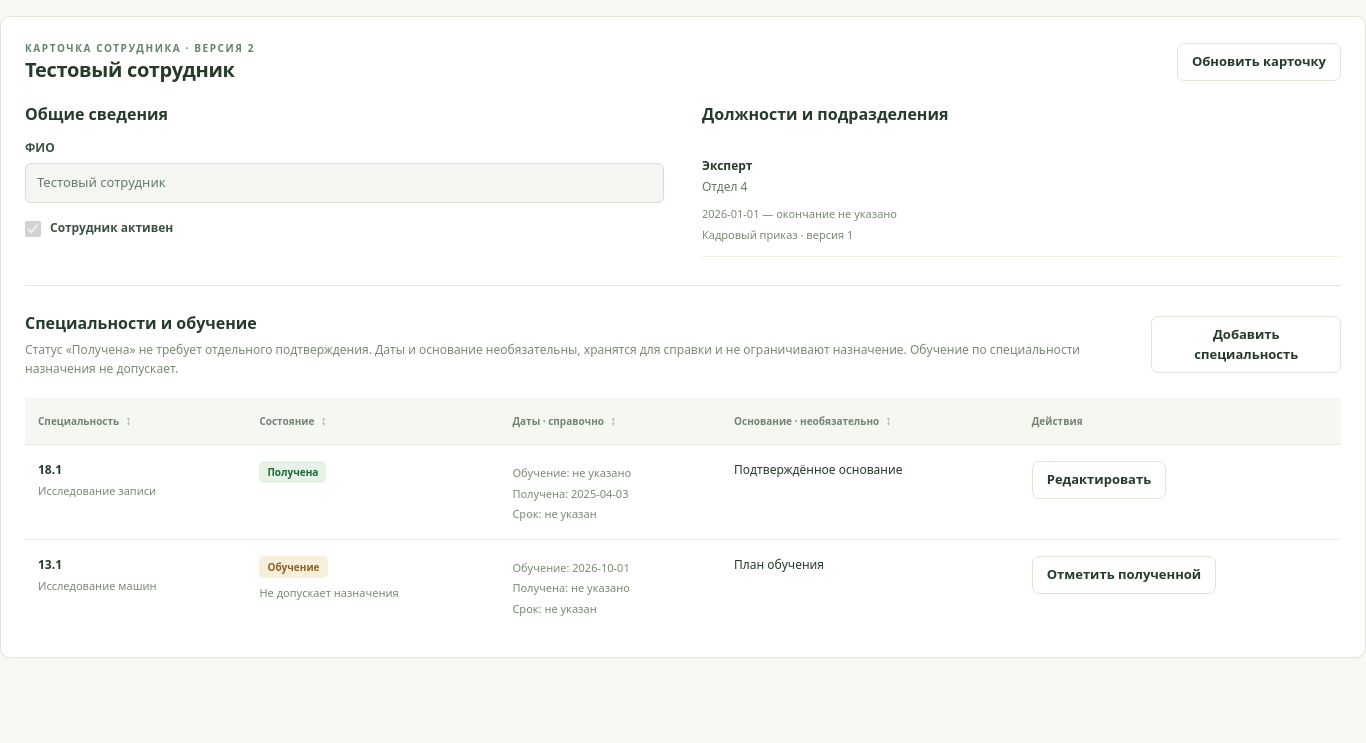
Test: specialty reference dates › adds an obtained specialty directly with all optional details empty using only the obtained-specialty right
The width and height of the screenshot is (1366, 743).
Click the button "Добавить специальность" at [1246, 345], box [1152, 316, 1341, 373]
(page scrolled)
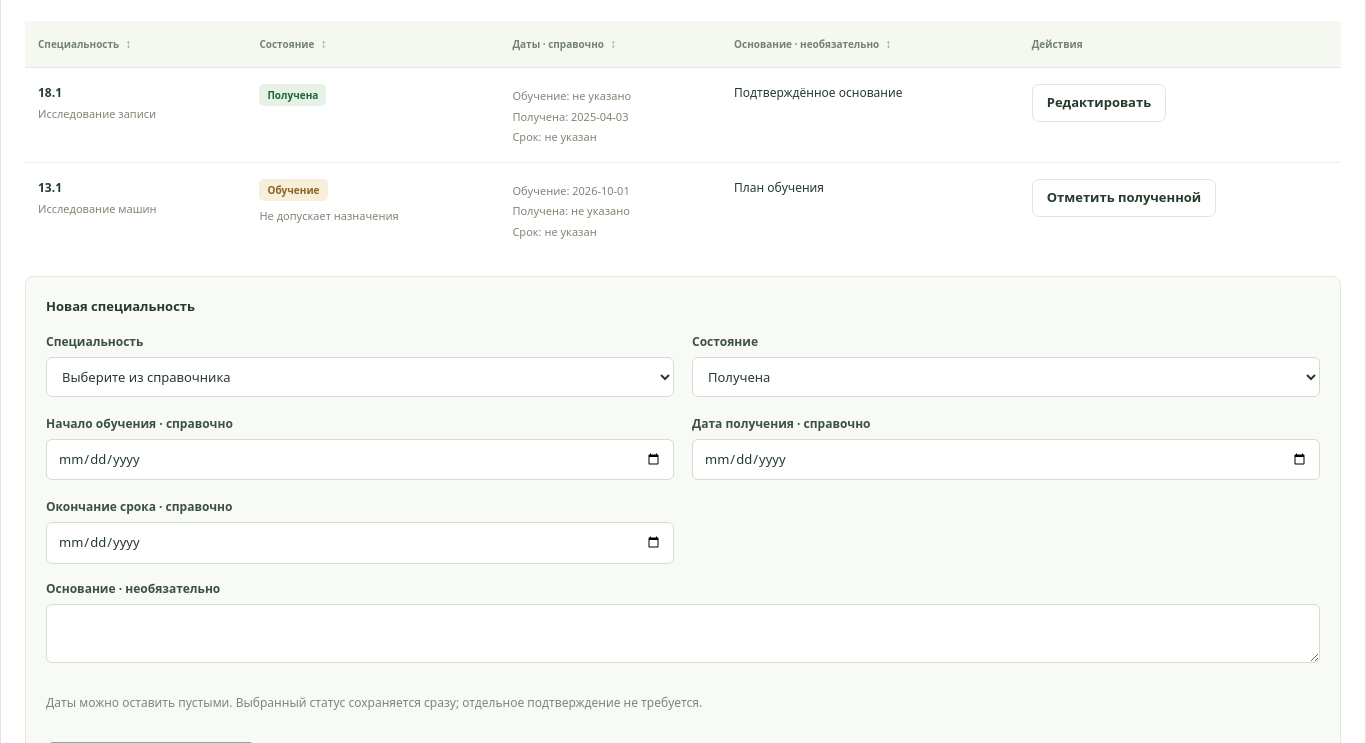
Select "18.1 · Исследование записи" in the dropdown named "specialty_id" at [360, 377], box [46, 357, 674, 397]
(page scrolled)
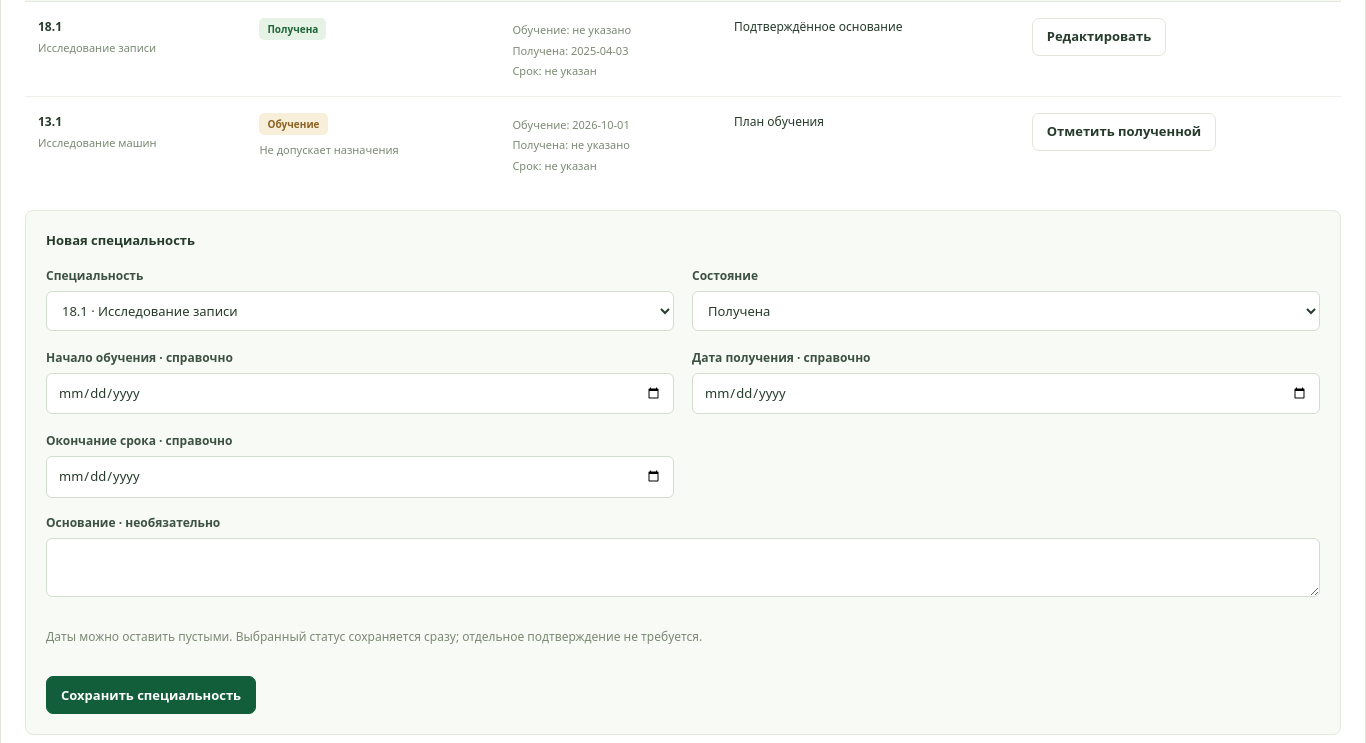
Submit the form
(page scrolled)
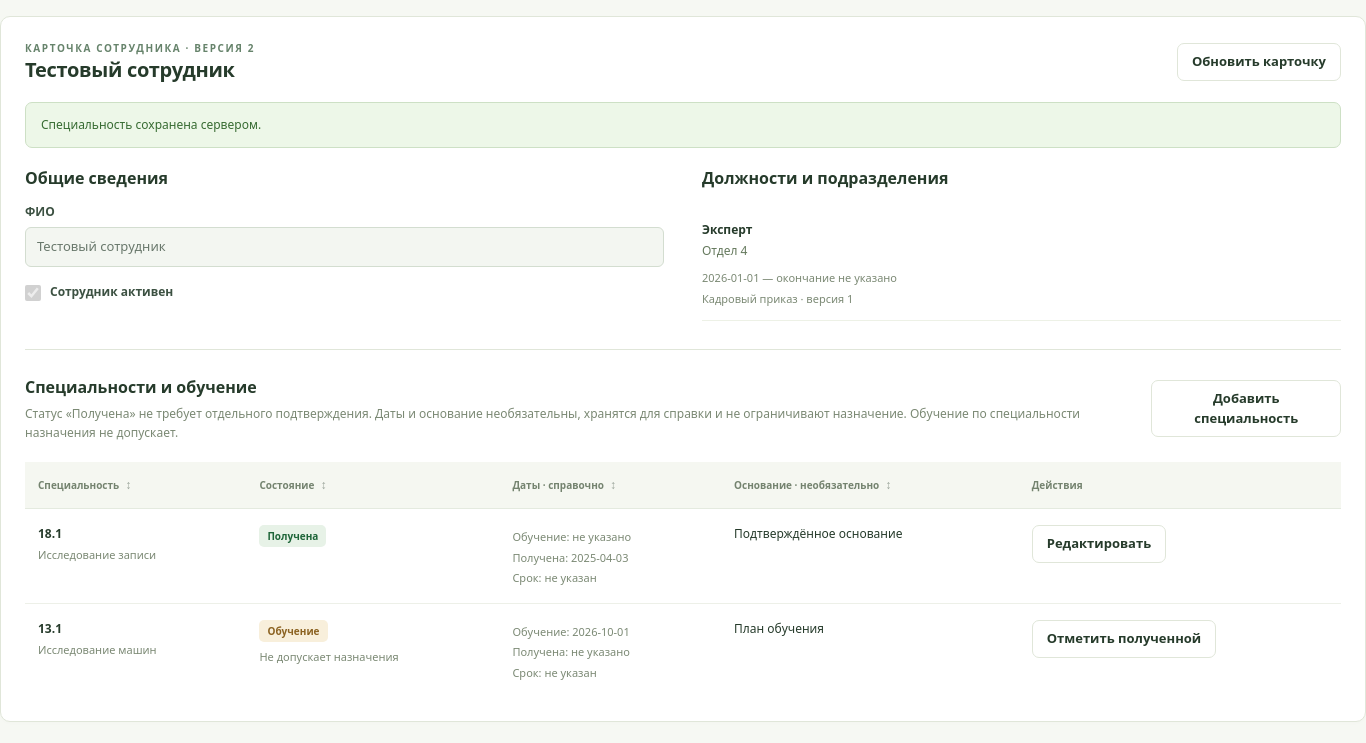
Expected: the message "Специальность сохранена сервером." is shown, [25, 102, 1341, 148]
